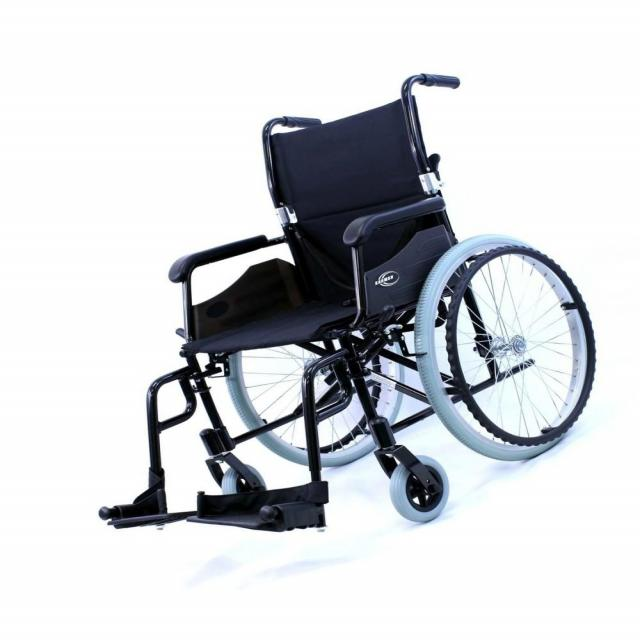wheelchair: (95, 59, 607, 584)
